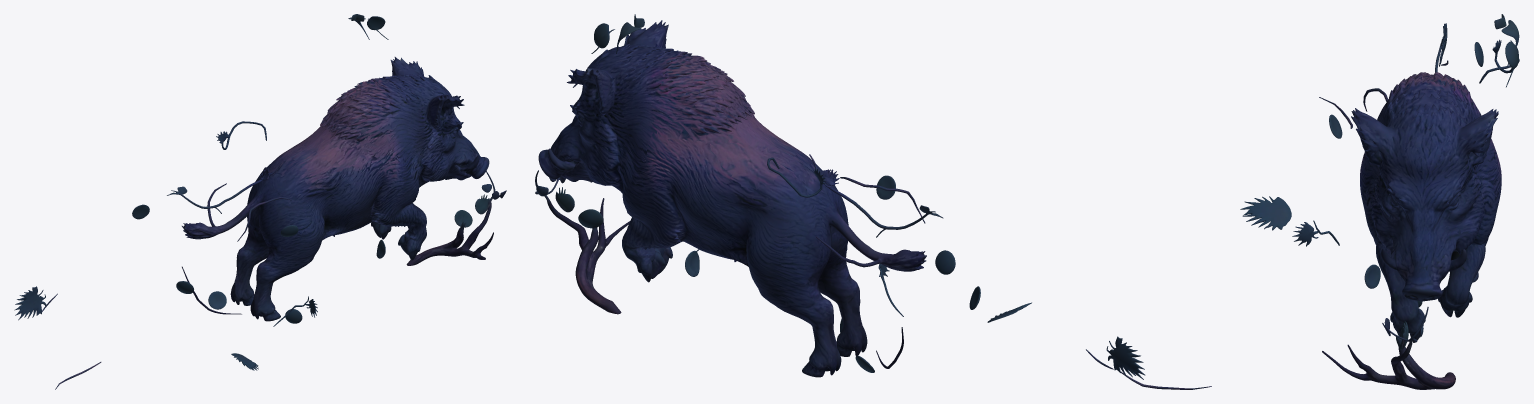
The model's file is boar.glb.
3 views of the same model, side by side, from view 1: azimuth 30°, elevation 25°; view 2: azimuth 150°, elevation 25°; view 3: azimuth 270°, elevation 25° (orthographic). The views are drawn at different scales.
Visible parts, largest first — view 1: boar_body, boar_branches; view 2: boar_body, boar_branches; view 3: boar_body, boar_branches.
Part boxes in pixels (x1,y1,x2,y2): boar_body: [182, 57, 489, 321]; boar_branches: [14, 14, 506, 389]; boar_body: [538, 20, 926, 377]; boar_branches: [535, 14, 1211, 389]; boar_body: [1351, 72, 1501, 342]; boar_branches: [1240, 14, 1519, 389].
Bounding box in the file's own units: 3.19 × 1.59 × 1.17.
1 material, 1 textured.
